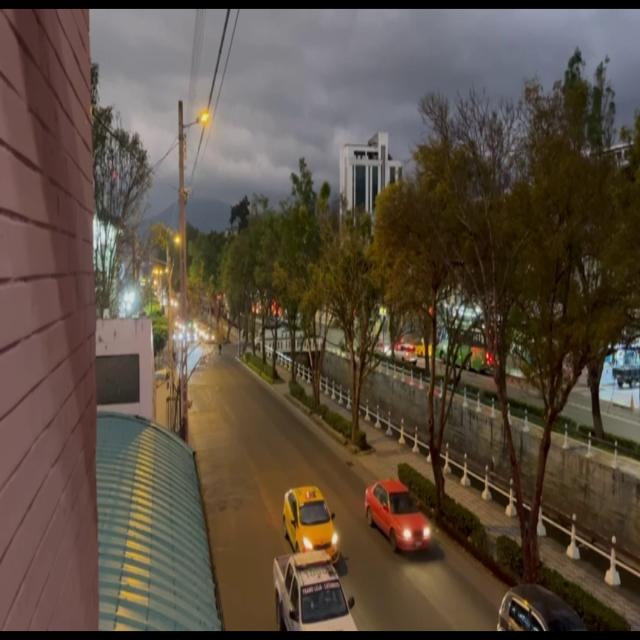CMT: (272, 551, 356, 631)
SED: (364, 482, 434, 557), (282, 487, 342, 563), (498, 582, 586, 632)
